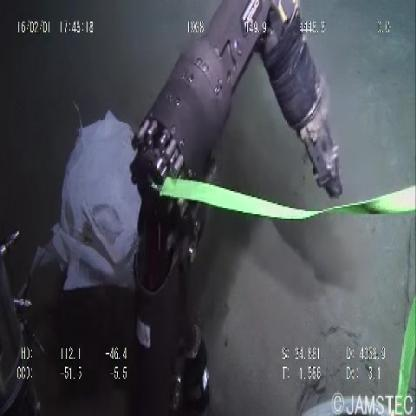Rov: (129, 1, 347, 353)
Rác: (47, 100, 151, 301)
